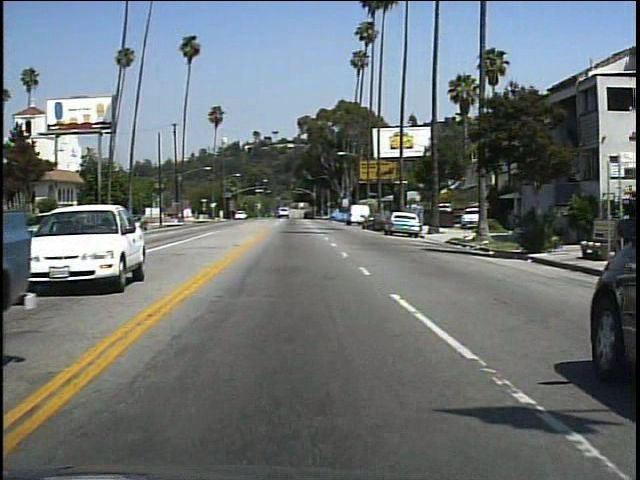person: (521, 198, 546, 252)
